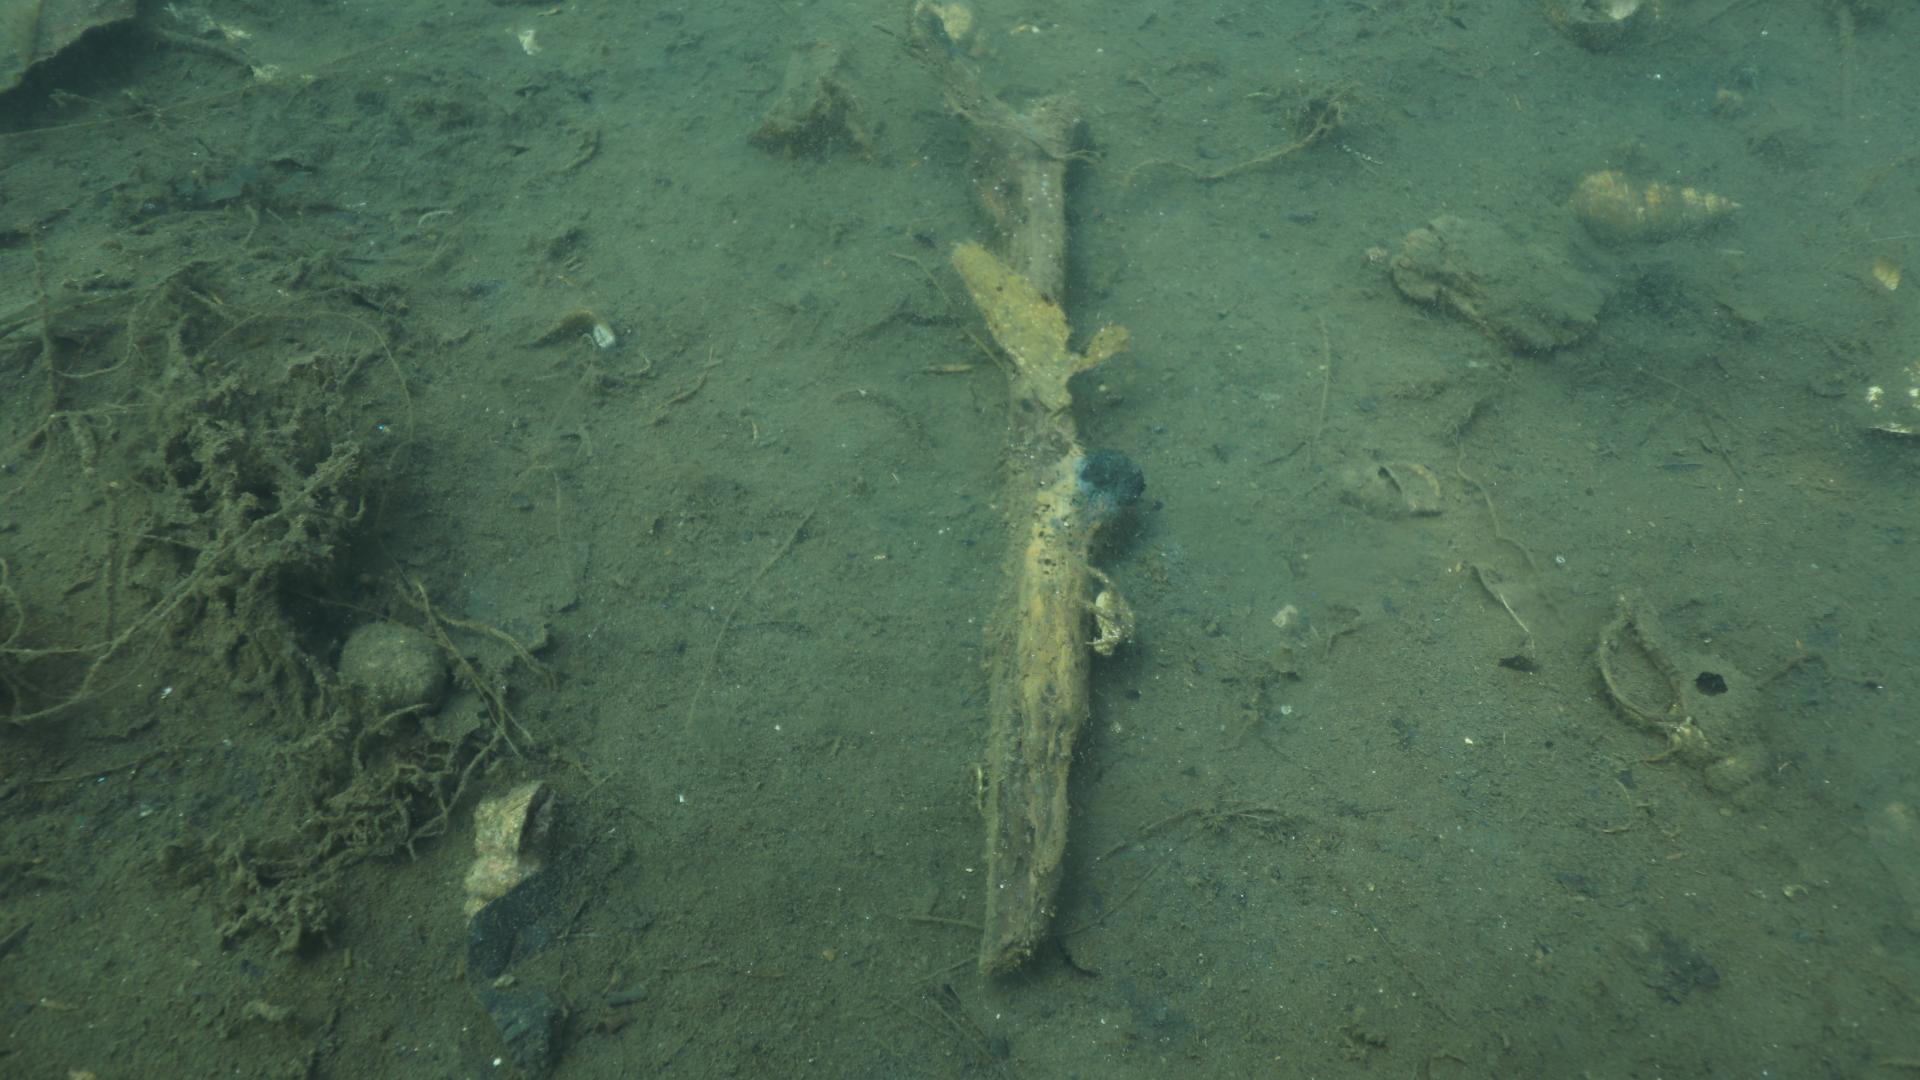wood: (973, 91, 1095, 977)
